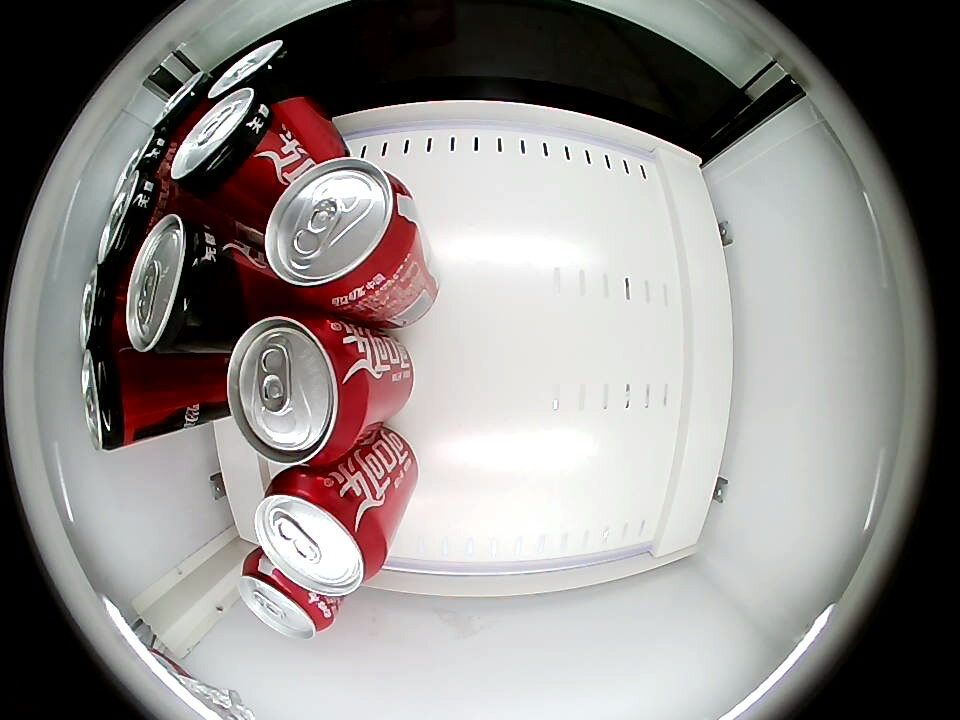kele: (265, 156, 418, 307), (226, 312, 371, 466), (255, 468, 384, 596), (238, 557, 332, 639)
lingdukele: (126, 214, 226, 354), (170, 85, 279, 199), (81, 348, 155, 451), (97, 169, 166, 267), (207, 39, 294, 105), (80, 264, 129, 351), (151, 73, 212, 135), (117, 127, 175, 189)
